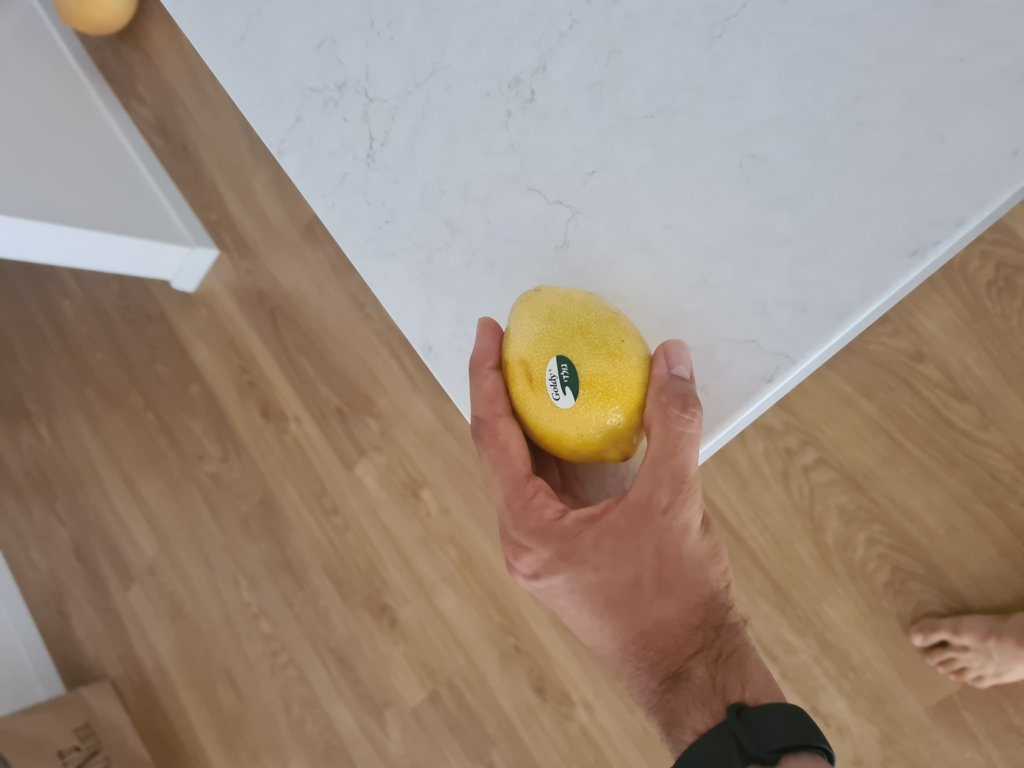lemon: (495, 282, 655, 471)
